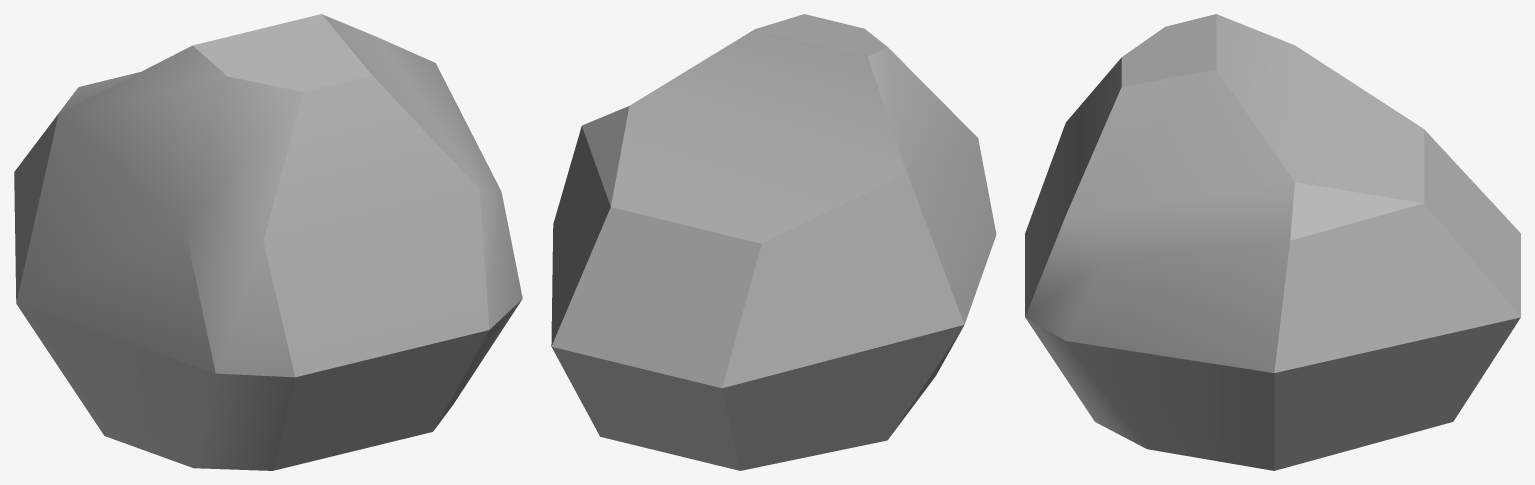
Rendered from Ground Stone 6.fbx.
3 renders of one model, left to right at view 1: azimuth 30°, elevation 25°; view 2: azimuth 150°, elevation 25°; view 3: azimuth 270°, elevation 25°, orthographic. The views are drawn at different scales.
Parts seen in each view (by area): view 1: Ground_Stone_6; view 2: Ground_Stone_6; view 3: Ground_Stone_6.
Part boxes in pixels (box(x1,y1,x2,y2)): Ground_Stone_6: box(14, 14, 522, 470); Ground_Stone_6: box(551, 14, 996, 470); Ground_Stone_6: box(1025, 14, 1520, 470).
Size of the model in its own units: 2.08 by 1.7 by 2.15.
